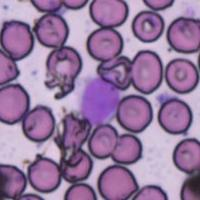L: (78, 73, 122, 127)
